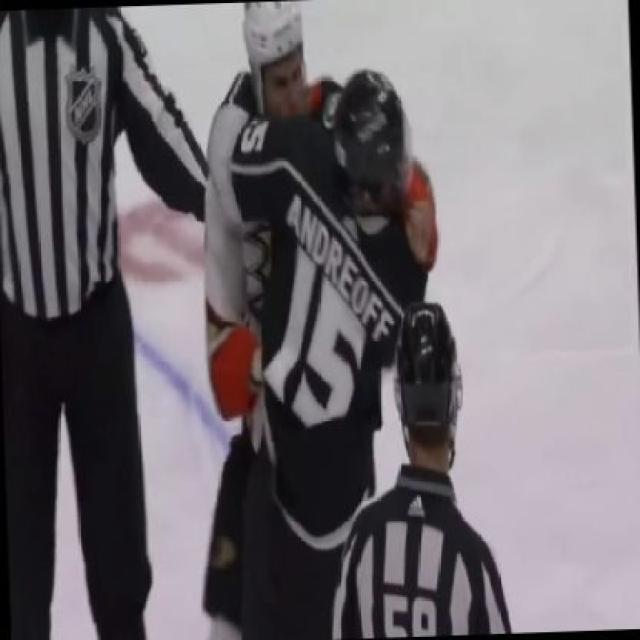fight: (190, 0, 456, 637)
non-fight: (0, 0, 215, 638)
